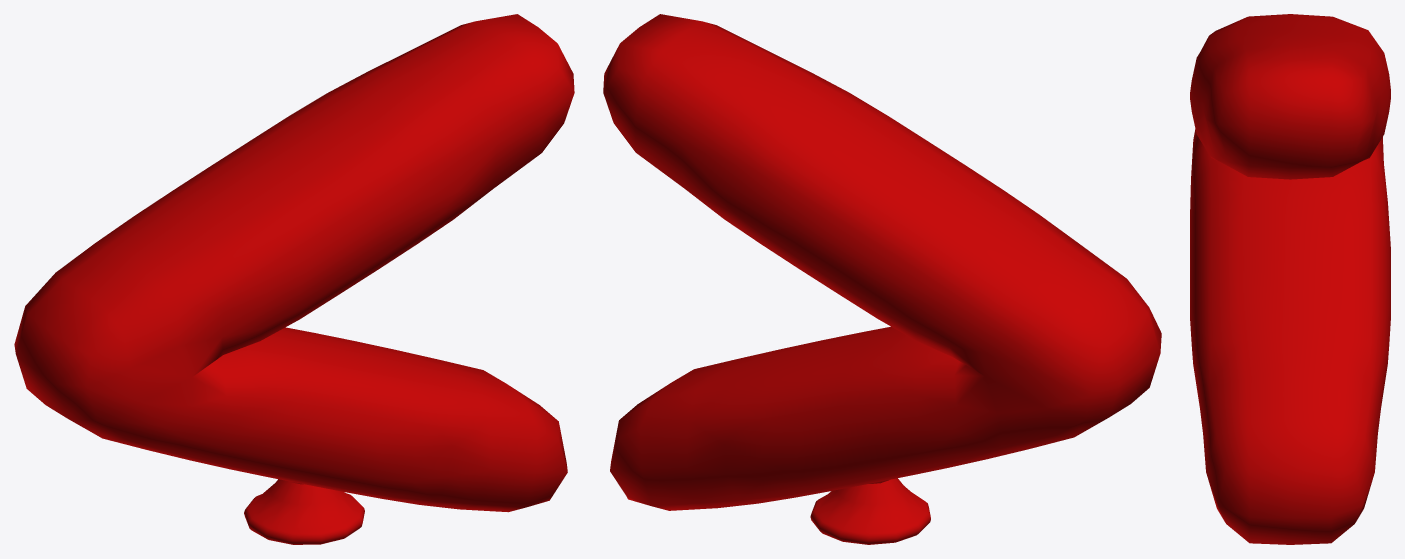
The model's file is menshe.FBX.
The picture shows the model from 3 angles, left to right: view 1: azimuth 30°, elevation 25°; view 2: azimuth 150°, elevation 25°; view 3: azimuth 270°, elevation 25°; orthographic projection.
Parts seen in each view (by area): view 1: Text032; view 2: Text032; view 3: Text032.
Part boxes in pixels (x1=…): Text032: x1=14, y1=14, x2=574, y2=544; Text032: x1=603, y1=14, x2=1161, y2=544; Text032: x1=1190, y1=14, x2=1390, y2=544.
Size of the model in its own units: 54.81 by 46.58 by 18.02.
